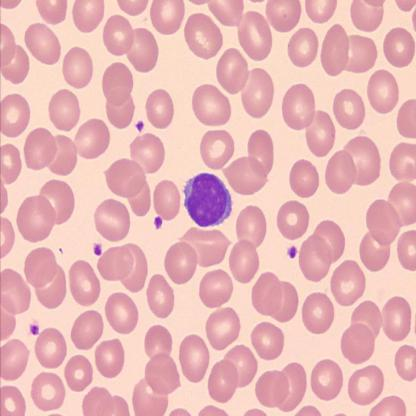Lymphocyte: (182, 172, 233, 228)
